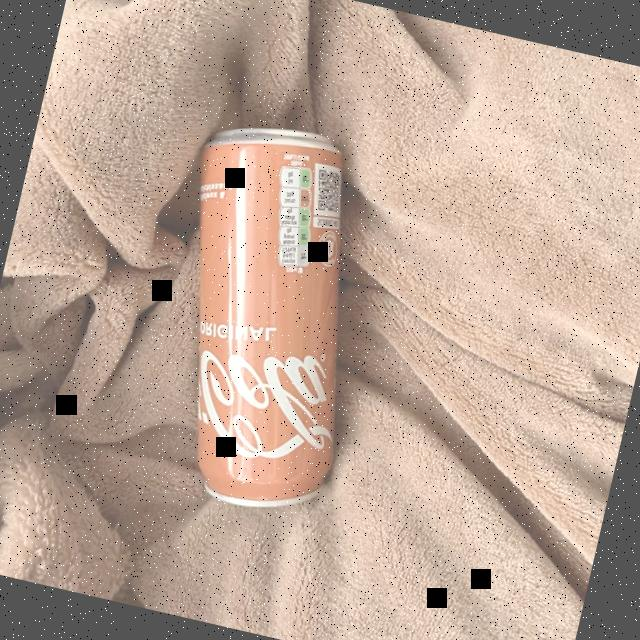can: (99, 91, 424, 540)
